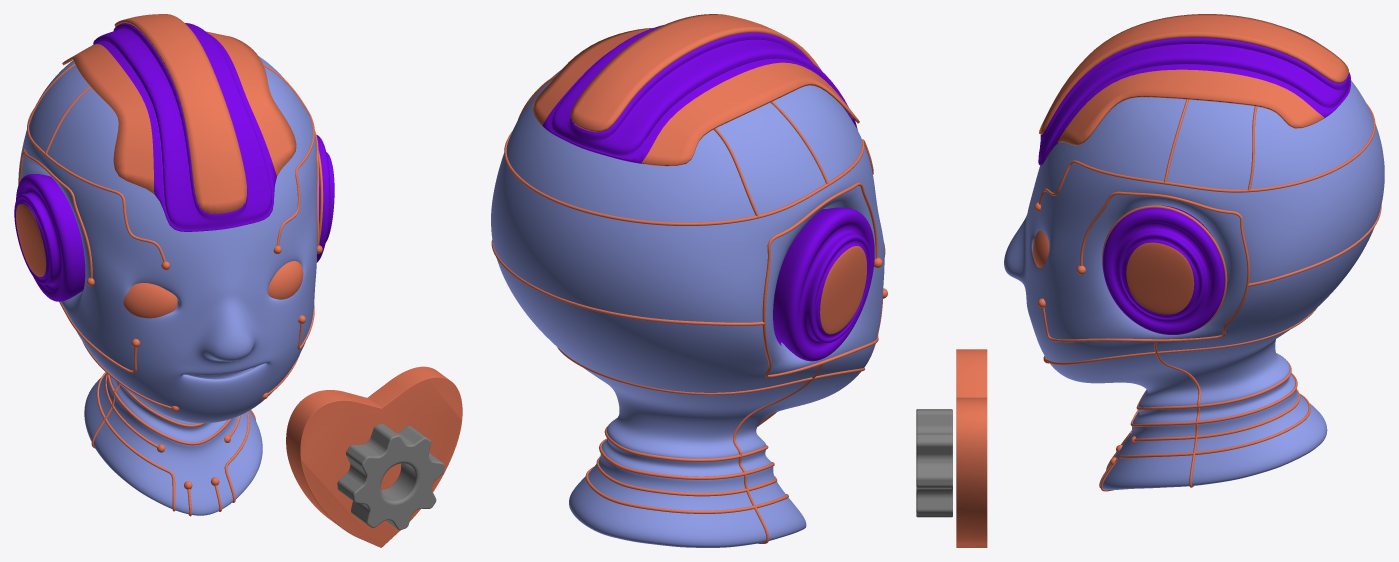
Rendered from self-awareness-ai-3d-animated-icon-727560943137.glb.
3 renders of one model, left to right at view 1: azimuth 30°, elevation 25°; view 2: azimuth 150°, elevation 25°; view 3: azimuth 270°, elevation 25°, orthographic. The views are drawn at different scales.
Parts seen in each view (by area): view 1: Cube.032, Cube.002, Plane.002, Cube.014, Cylinder.007, Cube.011, Sphere; view 2: Cube.032, Cube.002, Cube.011, Cube.014; view 3: Cube.032, Cube.002, Cube.011, Cube.014, Plane.002, Cylinder.007.
Part boxes in pixels (left/top/right/bottom): Cube.032: left=14, top=56, right=334, bottom=515; Cube.002: left=62, top=23, right=296, bottom=231; Plane.002: left=286, top=366, right=462, bottom=547; Cube.014: left=114, top=14, right=246, bottom=213; Cylinder.007: left=337, top=423, right=444, bottom=529; Cube.011: left=18, top=63, right=323, bottom=516; Sphere: left=123, top=261, right=303, bottom=318; Cube.032: left=491, top=69, right=884, bottom=547; Cube.002: left=532, top=25, right=859, bottom=166; Cube.011: left=491, top=75, right=887, bottom=543; Cube.014: left=570, top=14, right=821, bottom=132; Cube.032: left=1004, top=80, right=1384, bottom=489; Cube.002: left=1038, top=28, right=1350, bottom=165; Cube.011: left=1034, top=99, right=1381, bottom=491; Cube.014: left=1039, top=14, right=1348, bottom=134; Plane.002: left=956, top=349, right=987, bottom=547; Cylinder.007: left=916, top=409, right=952, bottom=517.
Size of the model in its own units: 0.3273 by 0.449 by 0.3985.
